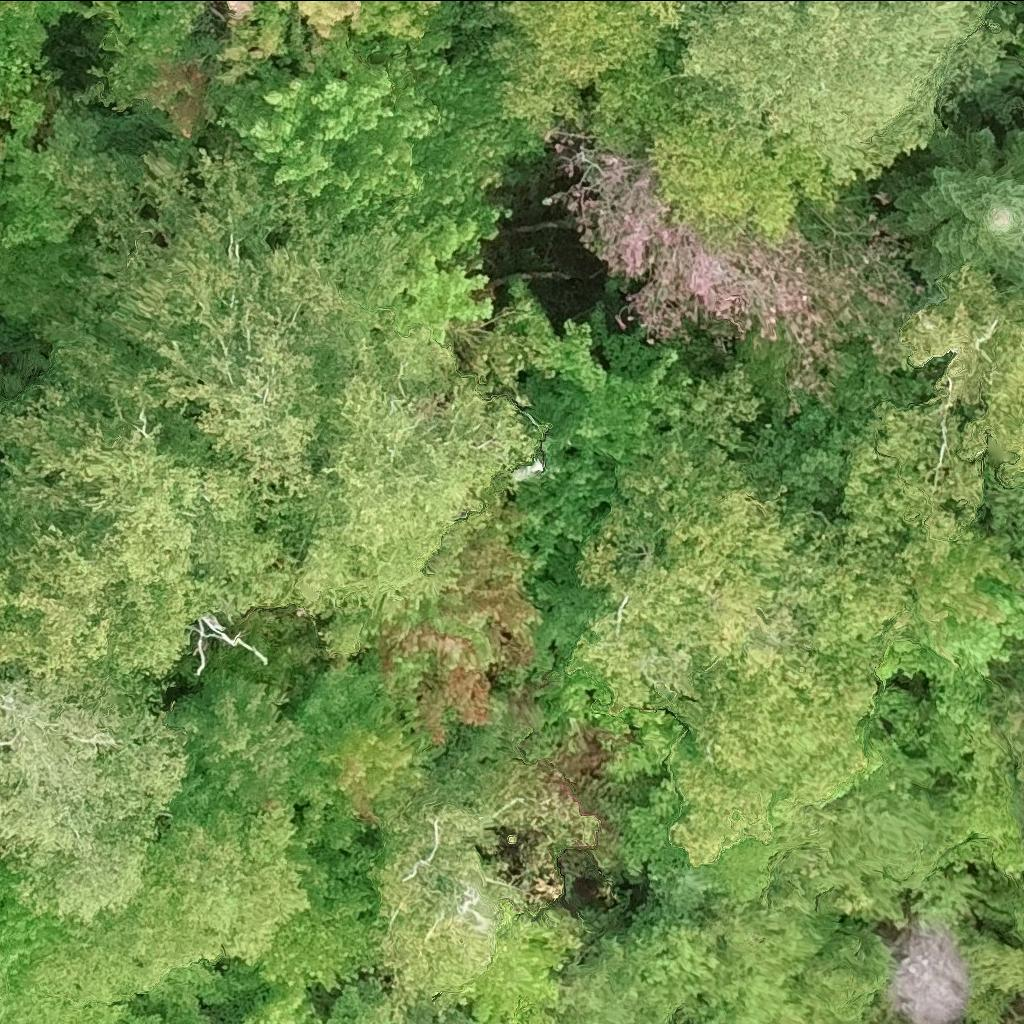crown: (32, 132, 414, 565), (570, 493, 910, 866), (213, 5, 553, 348), (592, 0, 1023, 245), (276, 322, 541, 654), (0, 380, 294, 678), (30, 793, 313, 1005), (837, 260, 1023, 556), (0, 666, 190, 922), (380, 762, 538, 992), (460, 0, 691, 131), (875, 531, 1023, 727), (885, 133, 1023, 290), (214, 0, 454, 86), (0, 96, 119, 245), (454, 912, 582, 1023), (947, 720, 1023, 874), (559, 934, 675, 1023), (798, 926, 896, 1023), (0, 0, 82, 63), (647, 865, 720, 921), (986, 470, 1023, 563), (221, 0, 246, 22), (1013, 21, 1023, 51), (1019, 866, 1023, 891), (0, 962, 1, 987)
